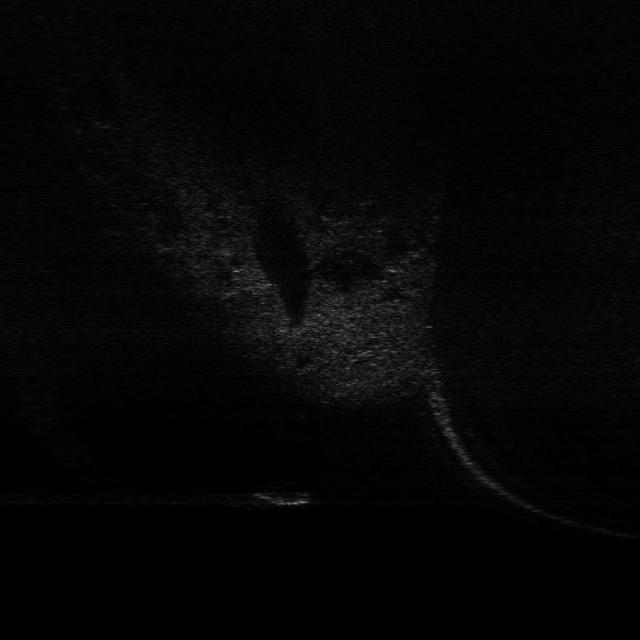cube: (240, 478, 320, 510)
